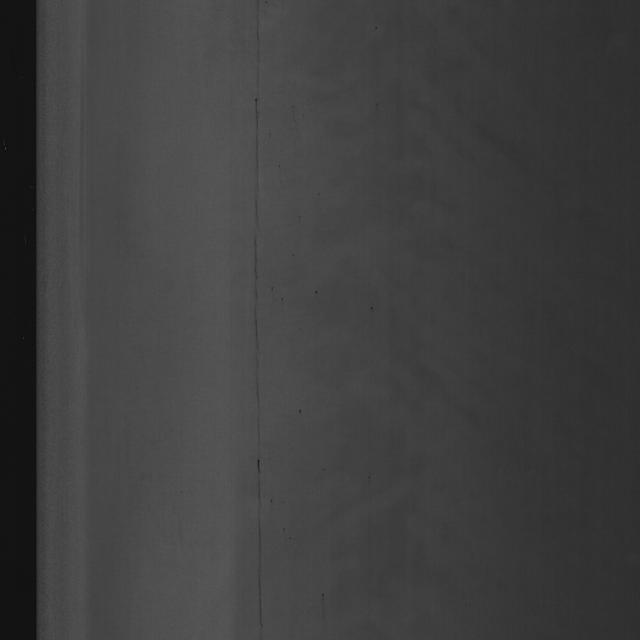oil_spot: (246, 14, 271, 622)
